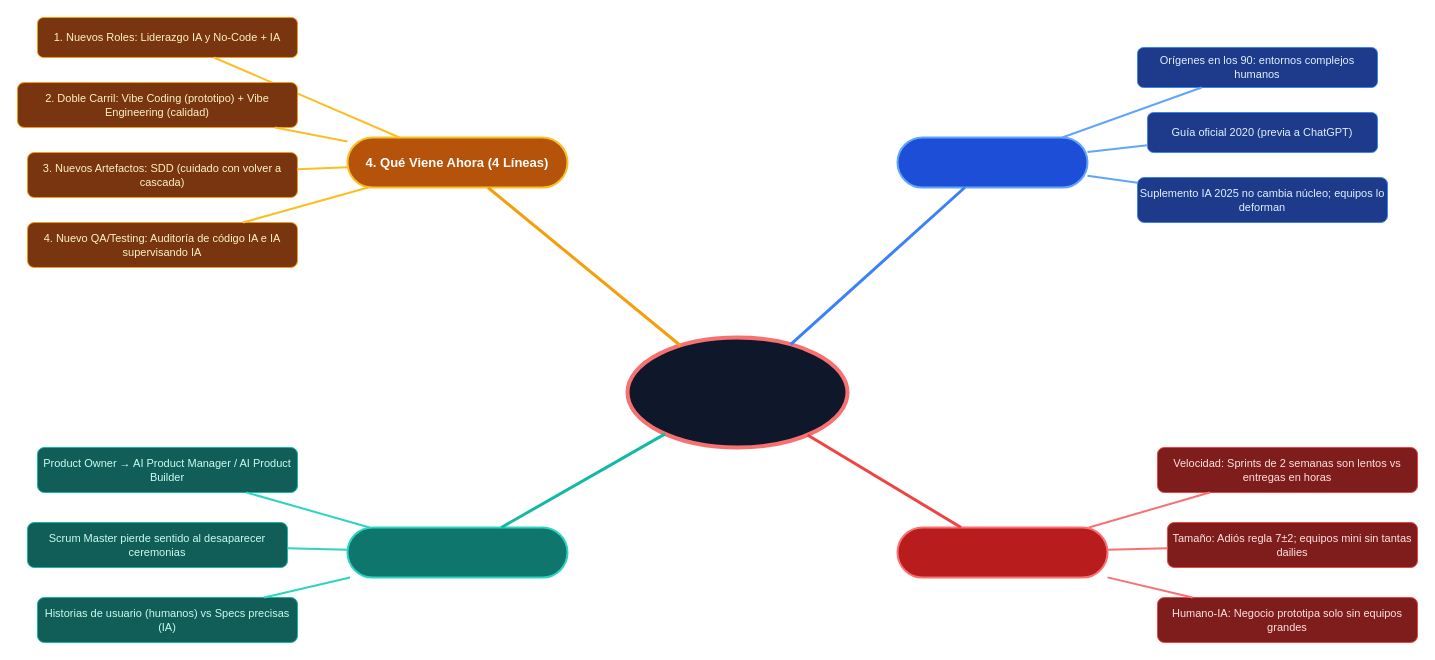
Image size: 1435x660. Some labels were removed from this diagram. Each missing label, with the box of its shape:
1. Contexto e Historia: (896, 136, 1088, 188)
2. 3 Pilares Rotos por la IA: (896, 526, 1108, 578)
3. Roles y Artefactos Obsoletos: (346, 526, 568, 578)
LA IA HA MATADO A SCRUM: (625, 335, 849, 449)
